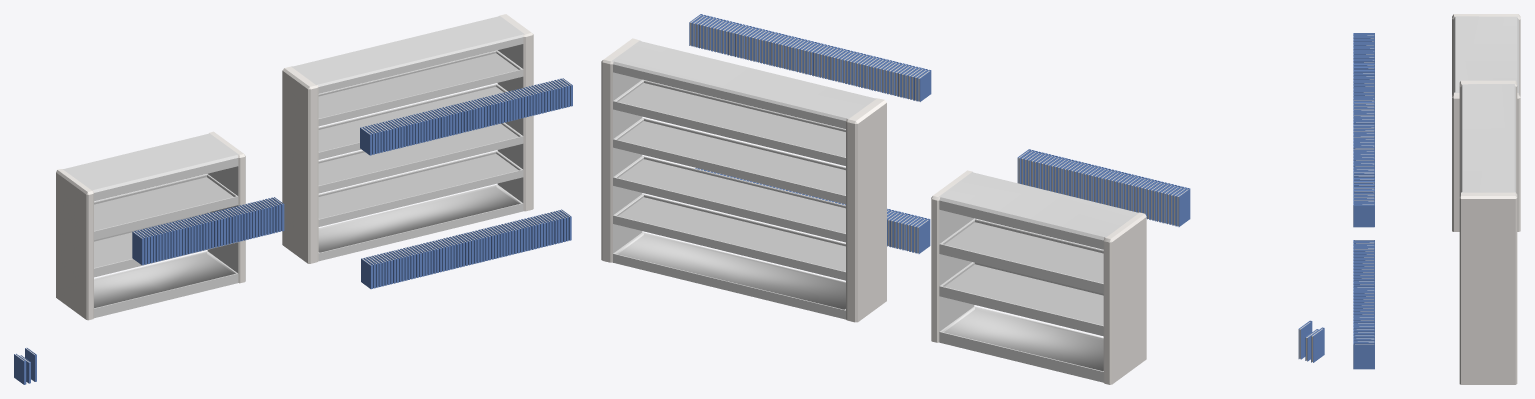
The model's file is cabinet.fbx.
The picture shows the model from 3 angles, left to right: view 1: azimuth 30°, elevation 25°; view 2: azimuth 150°, elevation 25°; view 3: azimuth 270°, elevation 25°; orthographic projection. The views are drawn at different scales.
Parts seen in each view (by area): view 1: cabinet_b, cabinet_a; view 2: cabinet_b, cabinet_a; view 3: cabinet_b, cabinet_a, book_03.103, book_02.070.
Boxes of the visible parts, x1,y1,x2,y2 form: cabinet_b: (282,14,533,263); cabinet_a: (56,131,245,320); cabinet_b: (601,38,886,322); cabinet_a: (931,170,1146,384); cabinet_b: (1459,80,1517,384); cabinet_a: (1452,14,1520,231); book_03.103: (1353,343,1374,369); book_02.070: (1353,204,1374,227).
Bounding box in the file's own units: 2192 × 670 × 532.
